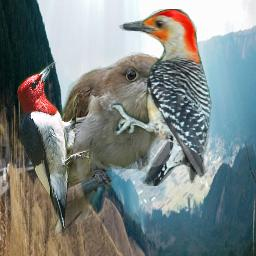Cuckoo: (49, 52, 178, 236)
Woodpecker: (111, 9, 215, 186), (16, 62, 89, 236)
